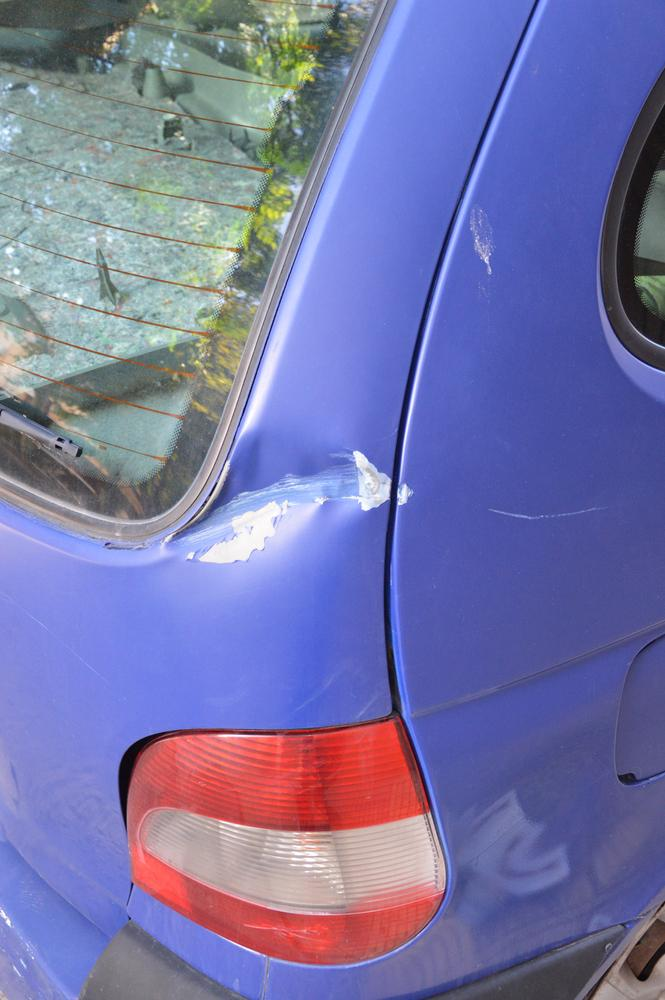dent: (173, 433, 368, 557)
